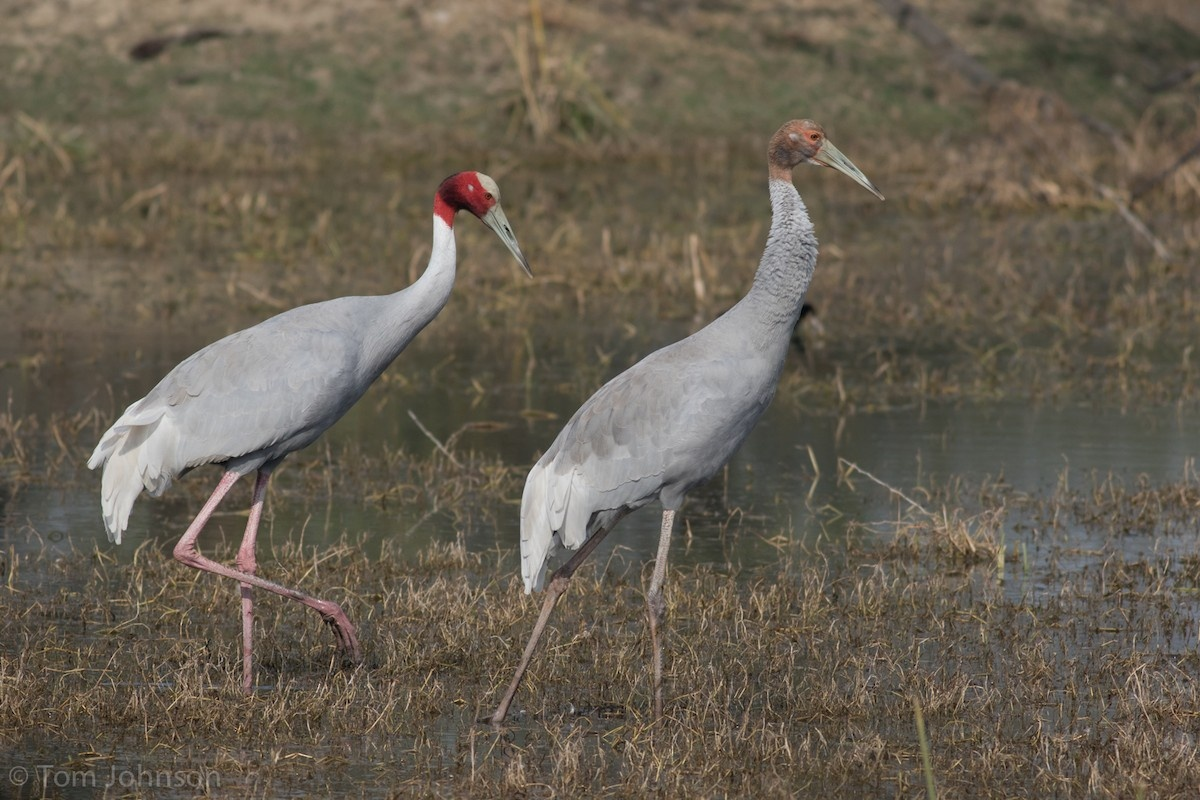crane: (489, 115, 889, 736), (90, 165, 542, 692)
